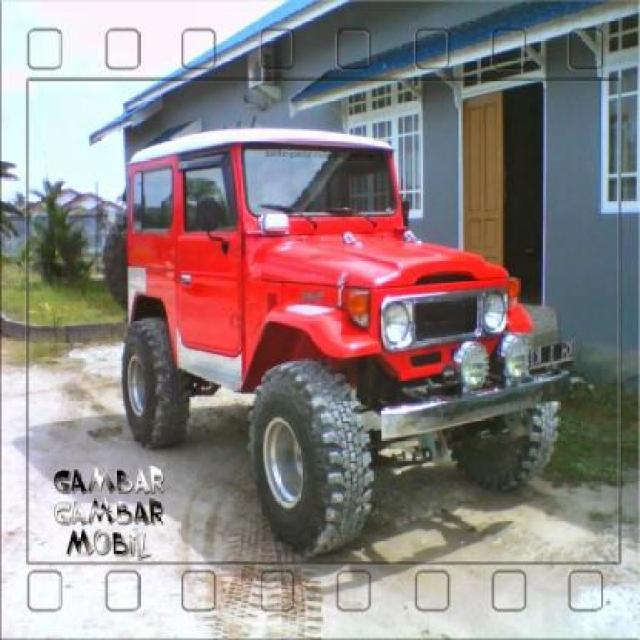Jeep: (123, 124, 571, 553)
